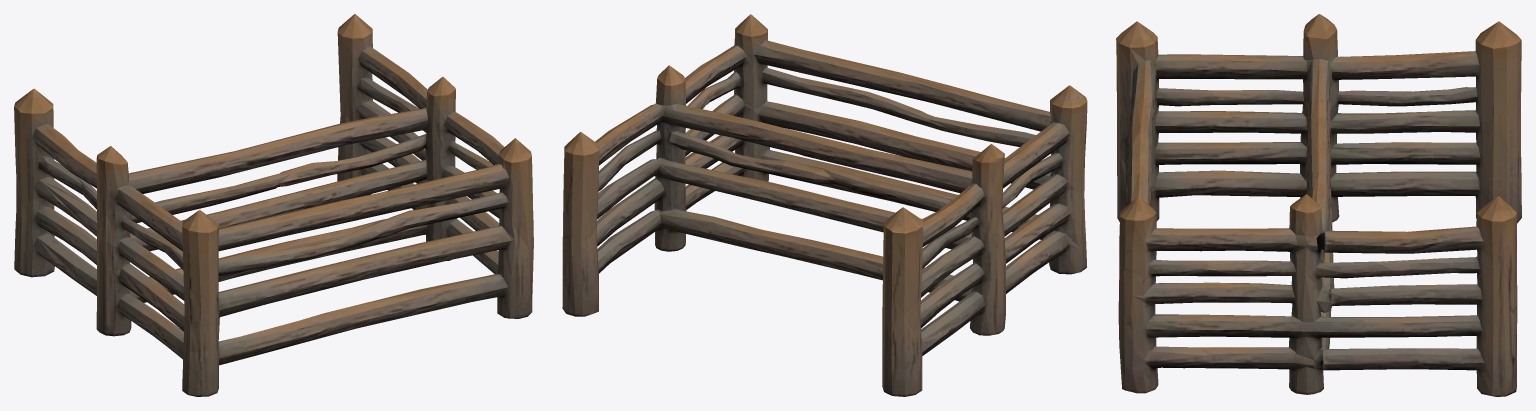
Rendered from village_rail_fence_straight_01.glb.
3 renders of one model, left to right at view 1: azimuth 30°, elevation 25°; view 2: azimuth 150°, elevation 25°; view 3: azimuth 270°, elevation 25°, orthographic. The views are drawn at different scales.
Visible parts, largest first — view 1: geometry_0; view 2: geometry_0; view 3: geometry_0.
Part boxes in pixels (<box>): geometry_0: <box>14,14,533,396</box>; geometry_0: <box>562,14,1087,396</box>; geometry_0: <box>1116,14,1521,396</box>.
Size of the model in its own units: 0.9985 by 0.497 by 0.9084.
Materials: 1 (1 with a texture image).
